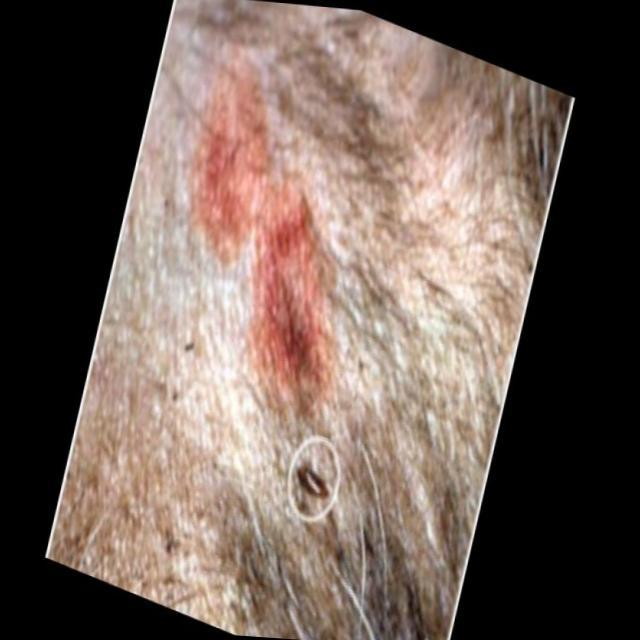allergic dermatitis: (188, 66, 338, 432)
